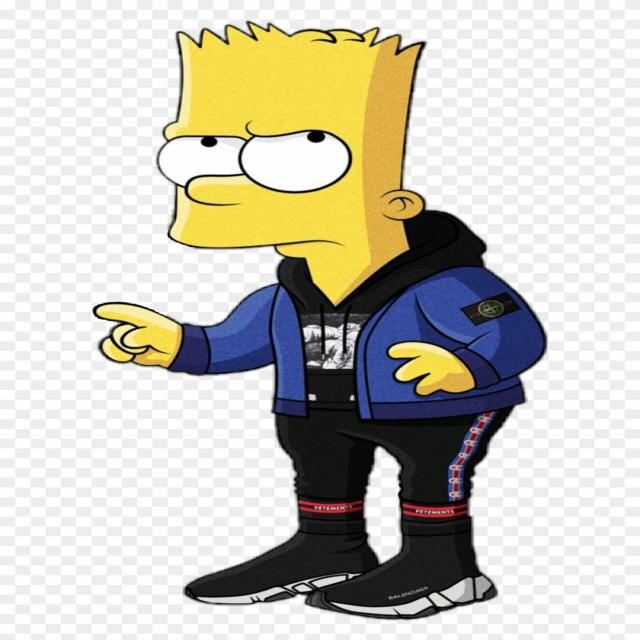Bart Simpson: (153, 18, 431, 285)
